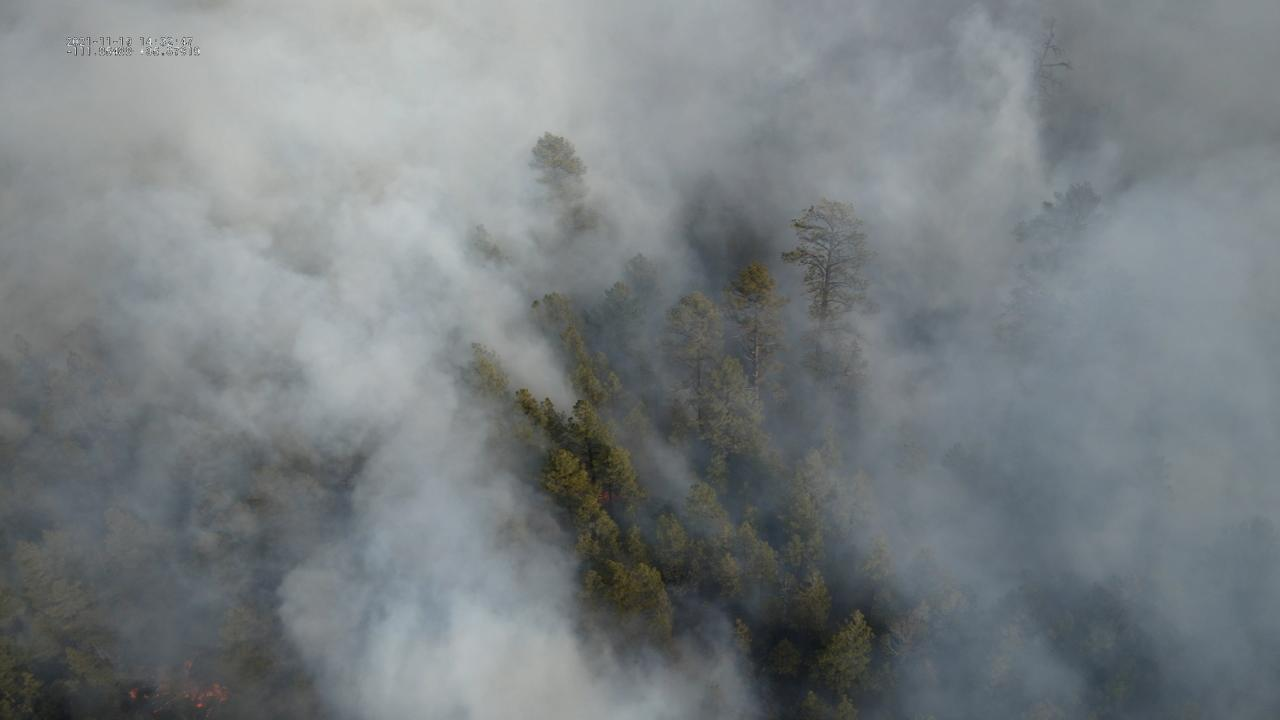fire: (181, 677, 231, 707), (127, 687, 138, 703), (182, 660, 194, 670)
smoke: (0, 0, 1280, 720)
